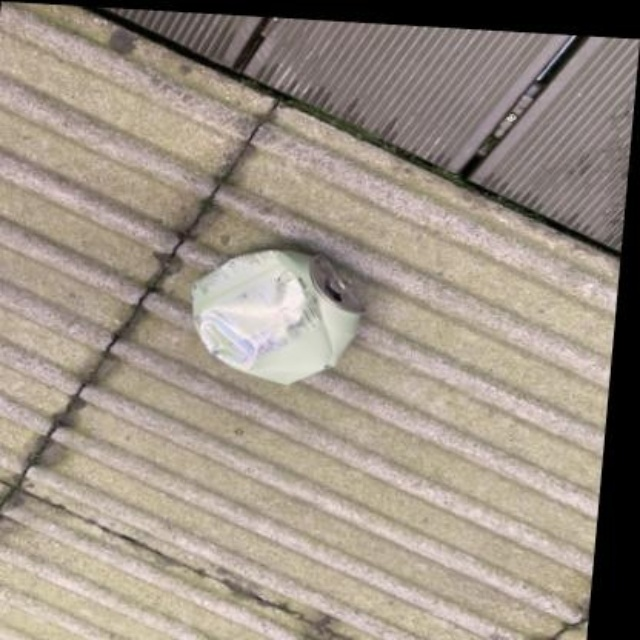trash: (192, 251, 362, 383)
